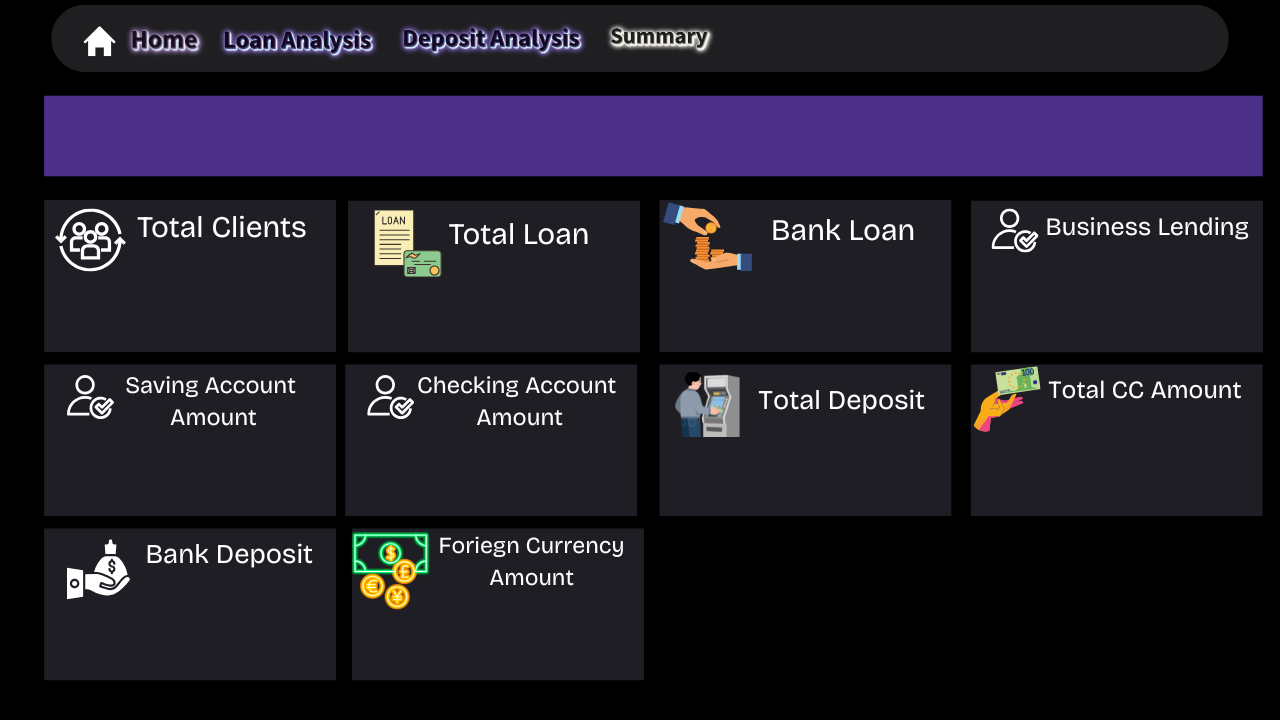

Layout of this report page (visuals, bound fields, positions):
{"tool":"powerbi","page":{"name":"Summary","canvas":[1280,720],"ordinal":3},"visuals":[{"type":"cardVisual","fields":{"Data":["Banking.Count clients"]},"box":[96.9,178.2,268.8,211],"z":0},{"type":"cardVisual","fields":{"Data":["Banking.Total Loan Amount"]},"box":[386.1,178.2,293.8,211],"z":1000},{"type":"cardVisual","fields":{"Data":["Sum(Banking.Bank Loans)"]},"box":[698.7,178.2,293.8,211],"z":2000},{"type":"cardVisual","fields":{"Data":["Sum(Banking.Business Lending)"]},"box":[986.2,178.2,293.8,211],"z":3000},{"type":"cardVisual","fields":{"Data":["Sum(Banking.Saving Accounts)"]},"box":[61,376.7,301.7,171.9],"z":4000},{"type":"cardVisual","fields":{"Data":["Sum(Banking.Checking Accounts)"]},"box":[362.6,376.7,301.7,171.9],"z":5000},{"type":"cardVisual","fields":{"Data":["Banking.Total Deposits"]},"box":[698.7,359.5,398.6,193.8],"z":6000},{"type":"cardVisual","fields":{"Data":["Sum(Banking.Bank Deposits)"]},"box":[82.8,526.7,365.7,173.5],"z":7000},{"type":"cardVisual","fields":{"Data":["Sum(Banking.Credit Card Balance)"]},"box":[986.2,337.6,293.8,211],"z":8000},{"type":"cardVisual","fields":{"Data":["Sum(Banking.Foreign Currency Account)"]},"box":[365.7,509.5,293.8,211],"z":9000},{"type":"slicer","fields":{"Values":["Banking.BRId"]},"box":[53.1,101.6,497,59.4],"z":10000},{"type":"slicer","fields":{"Values":["Banking.GenderId"]},"box":[572.1,101.6,309.5,59.4],"z":11000},{"type":"slicer","fields":{"Values":["Banking.IAId"]},"box":[898.7,101.6,340.7,59.4],"z":12000},{"type":"slicer","fields":{"Values":["Banking.Year of joining"]},"box":[813.3,11.7,385,53.3],"z":13000},{"type":"cardVisual","fields":{"Data":["Sum(Banking.Superannuation Savings)"]},"box":[664.3,526.7,592.4,148.5],"z":14000}]}

Visuals, with their boxes in screenshot pixels (x1, y1, x2, y2), scaled from the page's 1280x720 canvas onto the 1280x720 screenshot:
cardVisual - Banking.Count clients: 97:178:366:389
cardVisual - Banking.Total Loan Amount: 386:178:680:389
cardVisual - Sum(Banking.Bank Loans): 699:178:992:389
cardVisual - Sum(Banking.Business Lending): 986:178:1279:389
cardVisual - Sum(Banking.Saving Accounts): 61:377:363:549
cardVisual - Sum(Banking.Checking Accounts): 363:377:664:549
cardVisual - Banking.Total Deposits: 699:360:1097:553
cardVisual - Sum(Banking.Bank Deposits): 83:527:448:700
cardVisual - Sum(Banking.Credit Card Balance): 986:338:1279:549
cardVisual - Sum(Banking.Foreign Currency Account): 366:510:660:719
slicer - Banking.BRId: 53:102:550:161
slicer - Banking.GenderId: 572:102:882:161
slicer - Banking.IAId: 899:102:1239:161
slicer - Banking.Year of joining: 813:12:1198:65
cardVisual - Sum(Banking.Superannuation Savings): 664:527:1257:675
